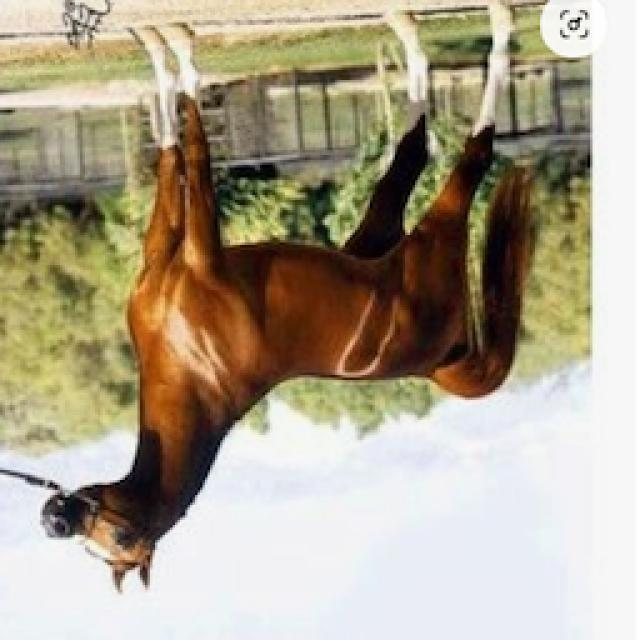Horse: (32, 2, 546, 598)
